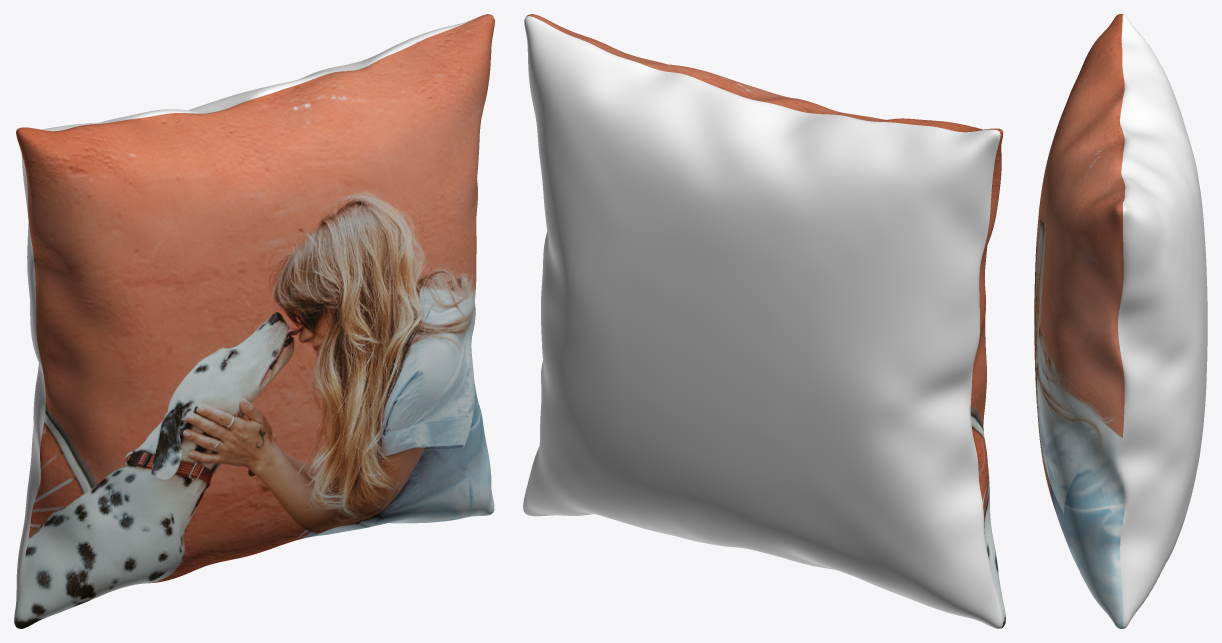
The model's file is cushion.glb.
3 renders of one model, left to right at view 1: azimuth 30°, elevation 25°; view 2: azimuth 150°, elevation 25°; view 3: azimuth 270°, elevation 25°, orthographic. The views are drawn at different scales.
Visible parts, largest first — view 1: Cushion Hair Top-View; view 2: Cushion Hair Top-View; view 3: Cushion Hair Top-View.
Part boxes in pixels (x1=…): Cushion Hair Top-View: x1=14, y1=14, x2=494, y2=628; Cushion Hair Top-View: x1=523, y1=14, x2=1005, y2=628; Cushion Hair Top-View: x1=1034, y1=14, x2=1207, y2=628.
Size of the model in its own units: 1.51 by 1.5 by 0.5602.
1 material, 1 textured.
